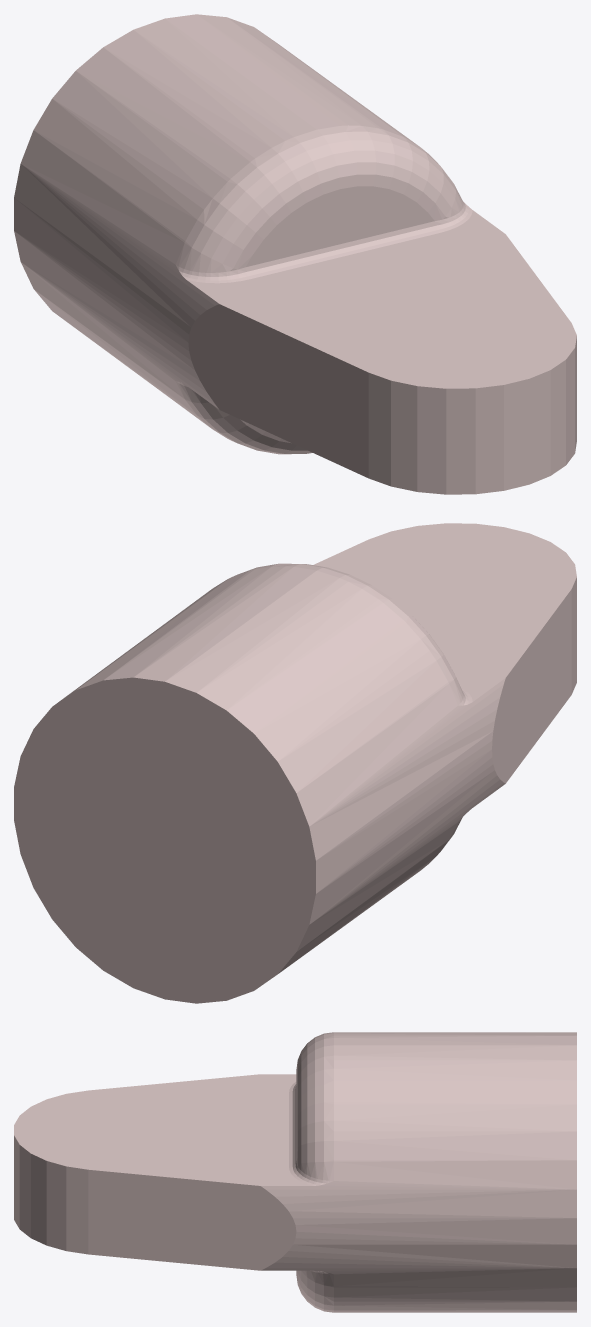
The picture shows the model from 3 angles, top to bottom: view 1: azimuth 30°, elevation 25°; view 2: azimuth 150°, elevation 25°; view 3: azimuth 270°, elevation 25°; orthographic projection. The views are drawn at different scales.
Parts seen in each view (by area): view 1: Base; view 2: Base; view 3: Base.
Boxes of the visible parts, box(x1,y1,x2,y2) form: Base: box(14, 14, 576, 494); Base: box(14, 523, 576, 1003); Base: box(14, 1032, 576, 1312).
Size of the model in its own units: 0.075 by 0.075 by 0.1505.
